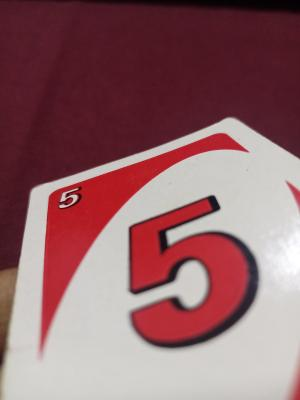num_5: (118, 192, 270, 357), (53, 183, 85, 216)
